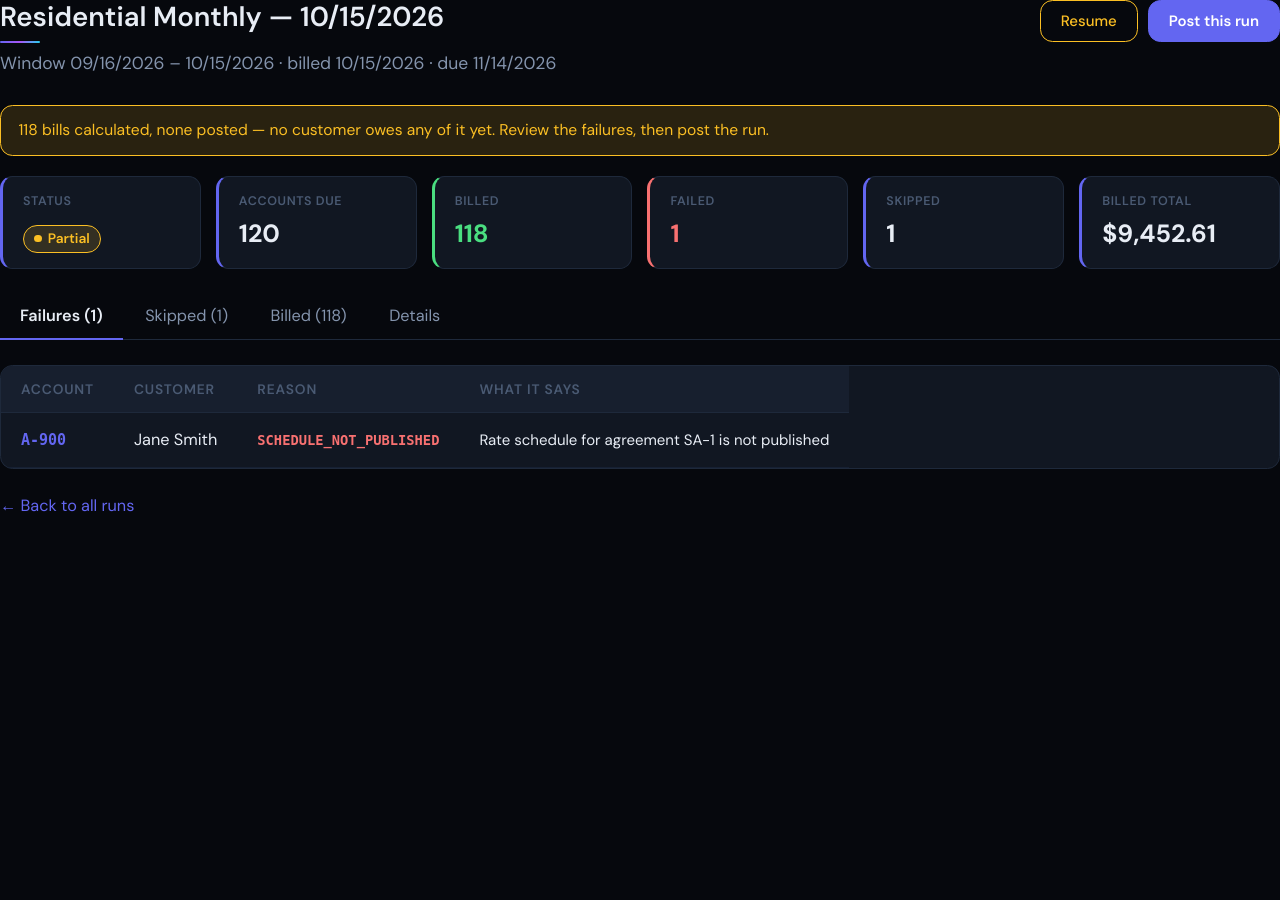
Test: Billing run detail — the posting gate › names the amount and the count before posting, and warns what is left out
Step 1. Click the button "Post this run" → click(1214, 21), box top-left (1148, 0), bottom-right (1279, 42)
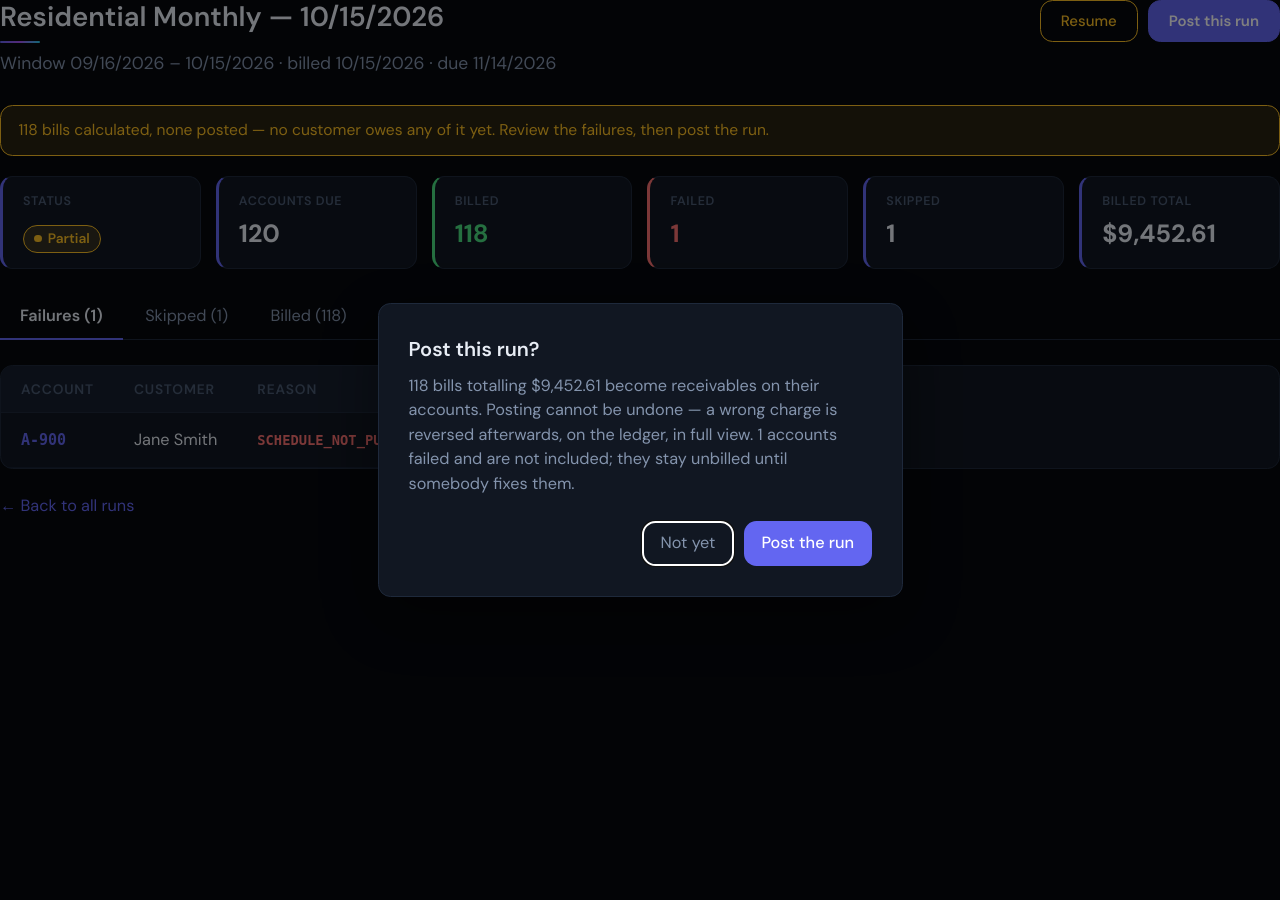
Check: the text "1 accounts failed and are not included" is shown, box top-left (408, 375), bottom-right (837, 494)
